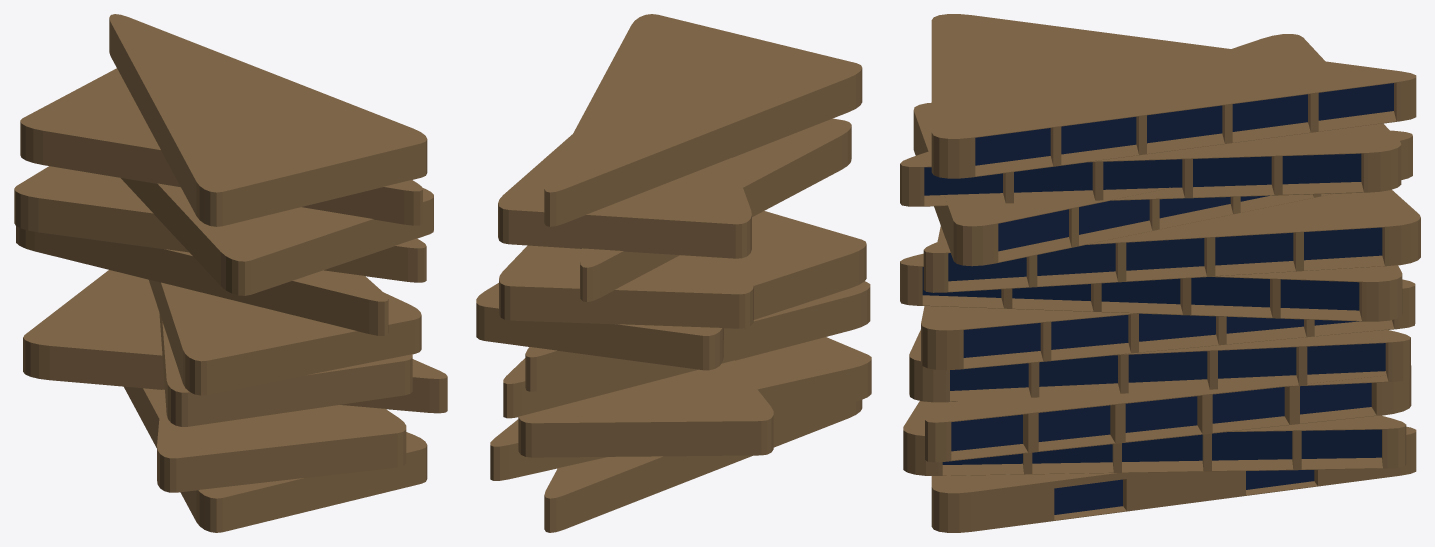
Rendered from LaNacional.fbx.
3 renders of one model, left to right at view 1: azimuth 30°, elevation 25°; view 2: azimuth 150°, elevation 25°; view 3: azimuth 270°, elevation 25°, orthographic. The views are drawn at different scales.
Parts seen in each view (by area): view 1: Cylinder.009, Cylinder.004, Cylinder.001, Cylinder.007, Cylinder.002, Cylinder.008, Cylinder.005, Cylinder.006, Cylinder, Cylinder.003; view 2: Cylinder.009, Cylinder.002, Cylinder.008, Cylinder.006, Cylinder.004, Cylinder.003, Cylinder.001, Cylinder, Cylinder.007, Cylinder.005; view 3: Cylinder.009, Cylinder.002, Cylinder.006, Cylinder.008, Cylinder.004, Cylinder.001, Cylinder.005, Cylinder.003, Cylinder.007, Cylinder.
Boxes of the visible parts, x1,y1,x2,y2 form: Cylinder.009: (109,14,427,226); Cylinder.004: (149,279,421,395); Cylinder.001: (157,389,406,492); Cylinder.007: (121,178,433,295); Cylinder.002: (23,270,447,413); Cylinder.008: (20,68,422,225); Cylinder.005: (16,226,388,335); Cylinder.006: (14,166,426,282); Cylinder: (124,386,427,532); Cylinder.003: (159,313,412,426); Cylinder.009: (544,14,862,226); Cylinder.002: (518,360,773,457); Cylinder.008: (498,134,751,258); Cylinder.006: (499,245,753,328); Cylinder.004: (525,211,866,391); Cylinder.003: (503,281,870,418); Cylinder.001: (490,337,871,480); Cylinder: (544,400,862,532); Cylinder.007: (580,118,851,301); Cylinder.005: (476,283,723,370); Cylinder.009: (931,14,1416,178); Cylinder.002: (925,365,1411,462); Cylinder.006: (923,189,1420,292); Cylinder.008: (900,34,1401,206); Cylinder.004: (921,225,1415,370); Cylinder.001: (903,401,1406,475); Cylinder.005: (900,253,1402,321); Cylinder.003: (909,329,1410,402); Cylinder.007: (913,102,1412,266); Cylinder: (931,426,1416,532).
Bounding box in the file's own units: 381 × 439 × 526.
